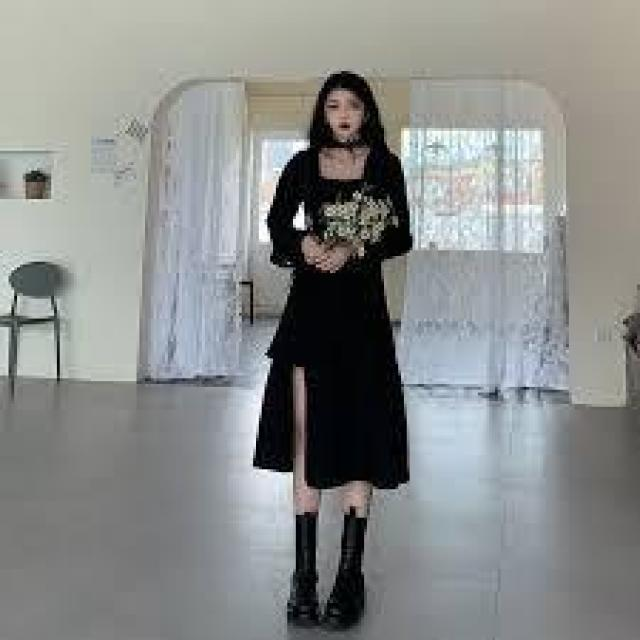dress: (254, 141, 416, 496)
